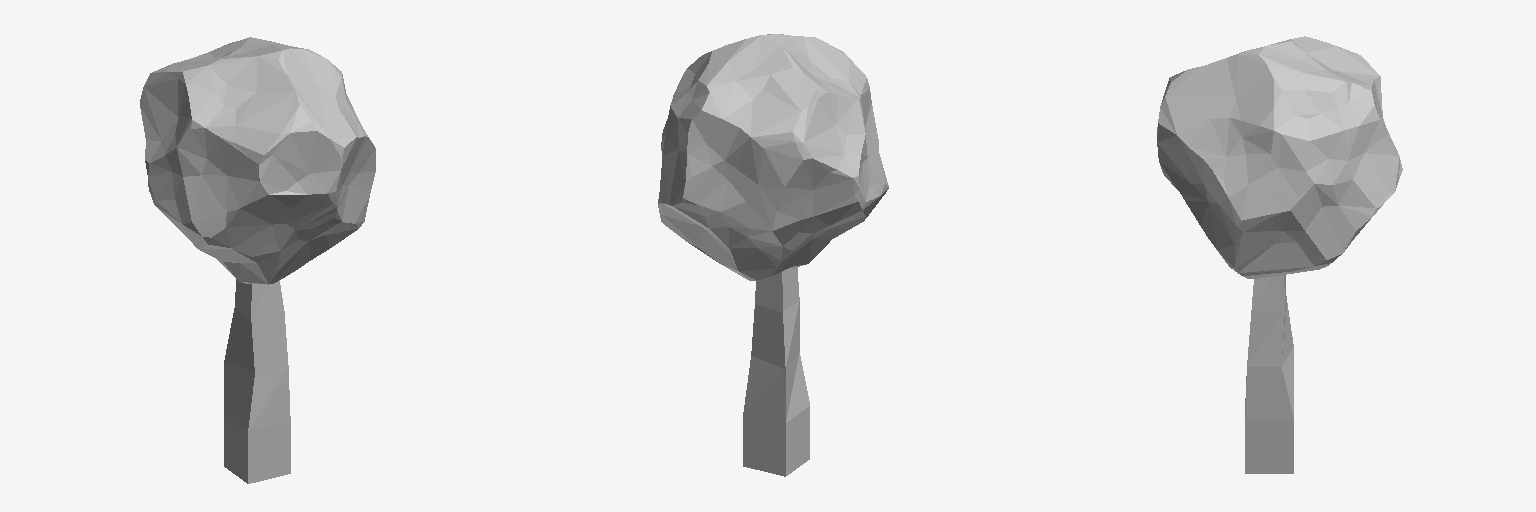
File: tree4.obj
The picture shows the model from 3 angles: view 1: azimuth 30°, elevation 25°; view 2: azimuth 150°, elevation 25°; view 3: azimuth 270°, elevation 25°; orthographic projection.
Visible parts, largest first — view 1: rock025; view 2: rock025; view 3: rock025.
Boxes of the visible parts, <box> form: rock025: <box>140,37,375,483</box>; rock025: <box>658,34,888,476</box>; rock025: <box>1157,36,1402,473</box>.
Size of the model in its own units: 3.25 by 6.51 by 3.46.